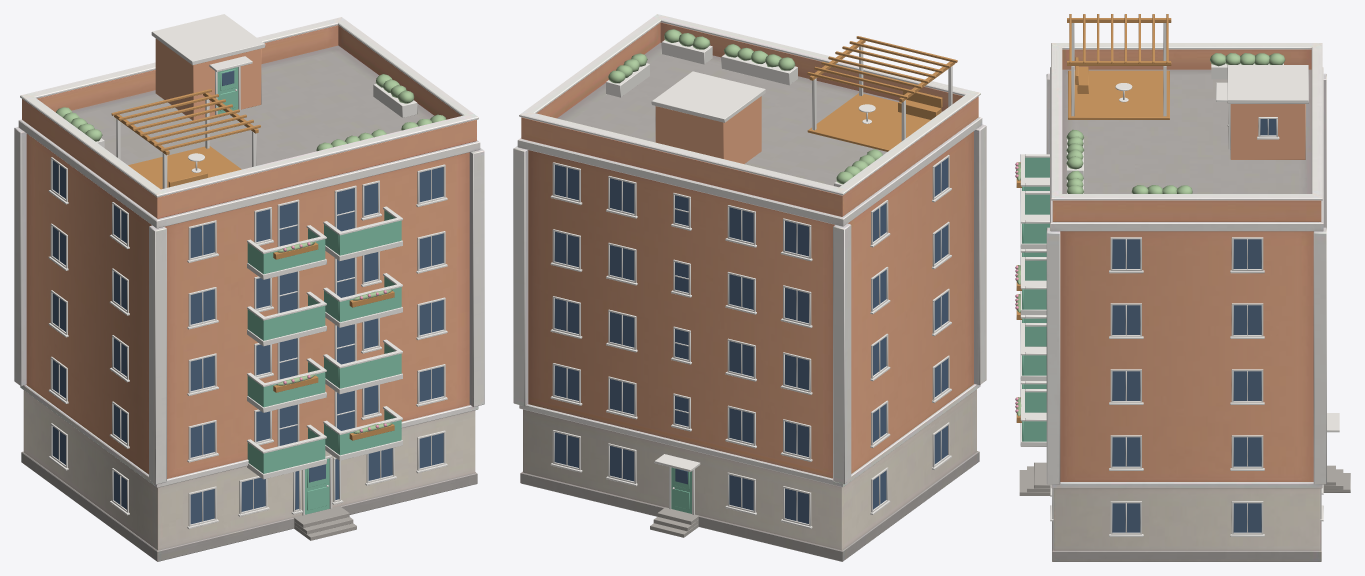
The model's file is bld-apartment.glb.
3 views of the same model, side by side, from view 1: azimuth 30°, elevation 25°; view 2: azimuth 150°, elevation 25°; view 3: azimuth 270°, elevation 25° (orthographic).
Parts seen in each view (by area): view 1: apartment-building_body, apartment-building_details, apartment-building_roof_terrace, apartment-building_shrubs; view 2: apartment-building_body, apartment-building_details, apartment-building_roof_terrace, apartment-building_shrubs; view 3: apartment-building_body, apartment-building_details, apartment-building_roof_terrace, apartment-building_shrubs.
Part boxes in pixels (left/top/right/bottom): apartment-building_body: left=14, top=17, right=484, bottom=561; apartment-building_details: left=48, top=157, right=447, bottom=540; apartment-building_roof_terrace: left=96, top=14, right=417, bottom=189; apartment-building_shrubs: left=56, top=74, right=446, bottom=433; apartment-building_body: left=513, top=14, right=986, bottom=561; apartment-building_details: left=550, top=155, right=951, bottom=537; apartment-building_roof_terrace: left=606, top=36, right=957, bottom=187; apartment-building_shrubs: left=608, top=29, right=882, bottom=184; apartment-building_body: left=1046, top=43, right=1326, bottom=561; apartment-building_details: left=1015, top=154, right=1350, bottom=536; apartment-building_roof_terrace: left=1067, top=14, right=1308, bottom=193; apartment-building_shrubs: left=1016, top=53, right=1285, bottom=416.
Size of the model in its own units: 15.56 by 18.3 by 13.83.
Materials: 13 (1 with a texture image).
